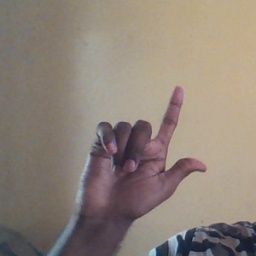L: (77, 85, 208, 214)
